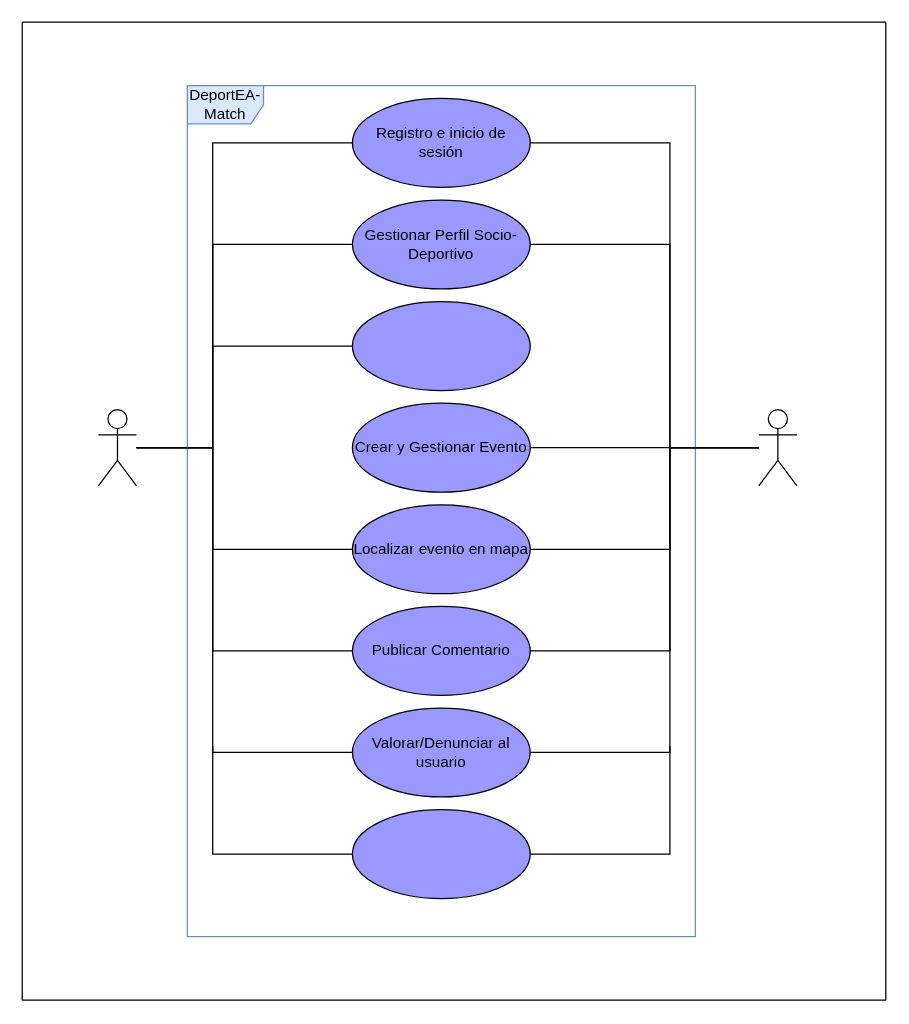
The diagram is 909 pixels wide and 1024 high, and some of its shapes have lost their labels. Each missing label, with the centre of its shape:
Buscar e Inscribirse a Evento: (x=440, y=345)
Consultar Estadisticas y notificaciones: (x=440, y=853)
Usuario Organizador: (x=777, y=447)
Usuario Participante: (x=117, y=447)
